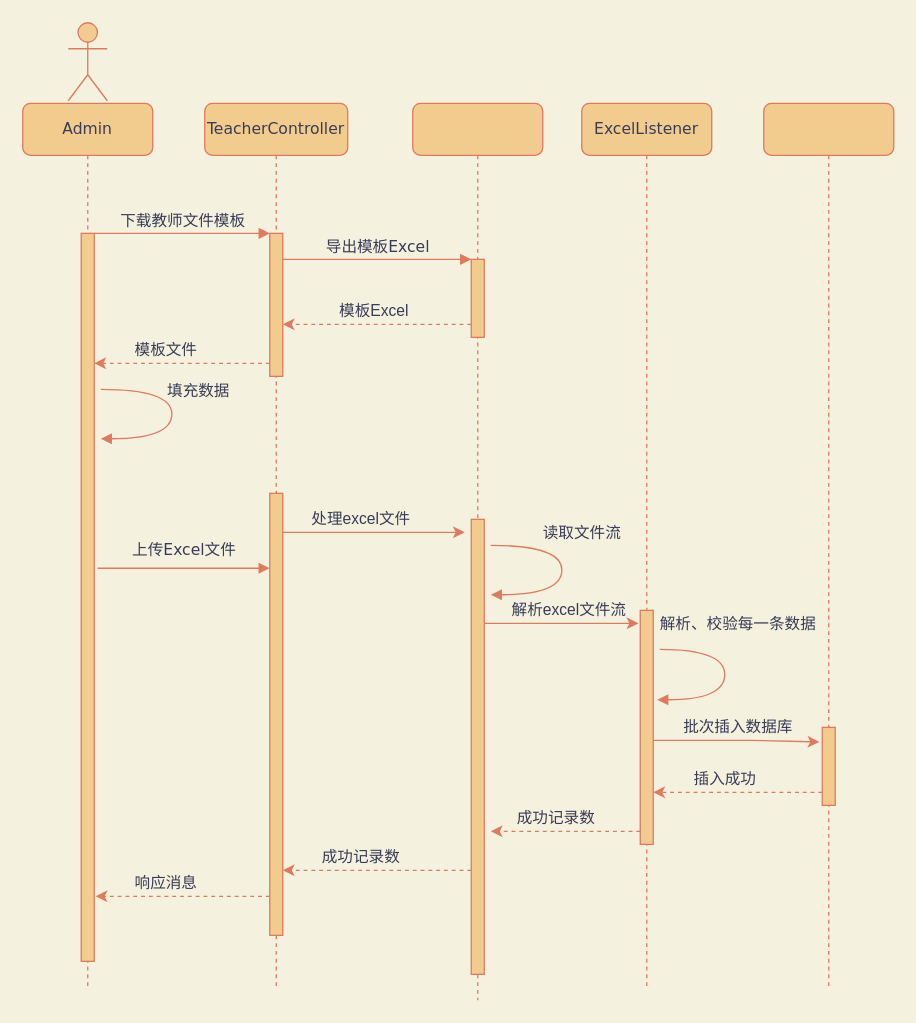
This 916x1023 diagram has some shape labels left out. Here are the shapes that lost their labels. From the top down, the box of each, then its label:
(411, 102, 543, 1000): TeacherService
(762, 102, 894, 987): TeacherMapper
